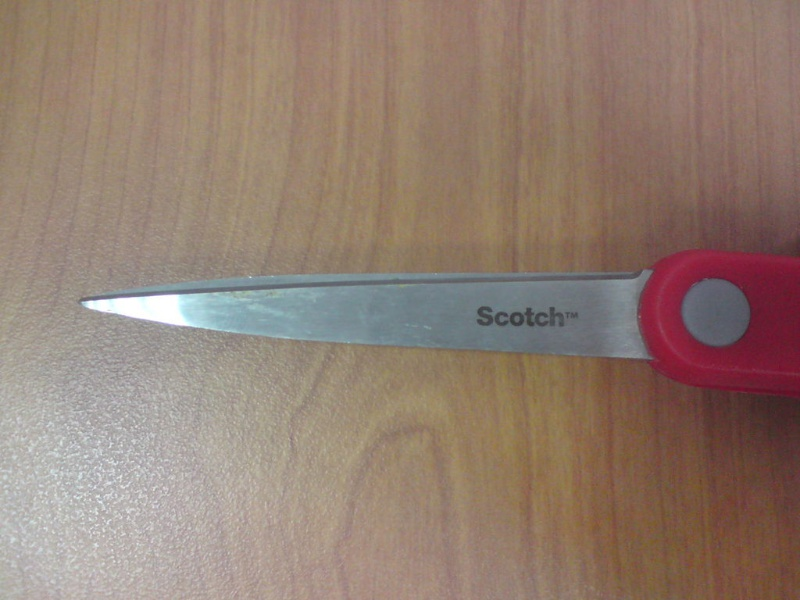knife: (322, 74, 665, 241)
